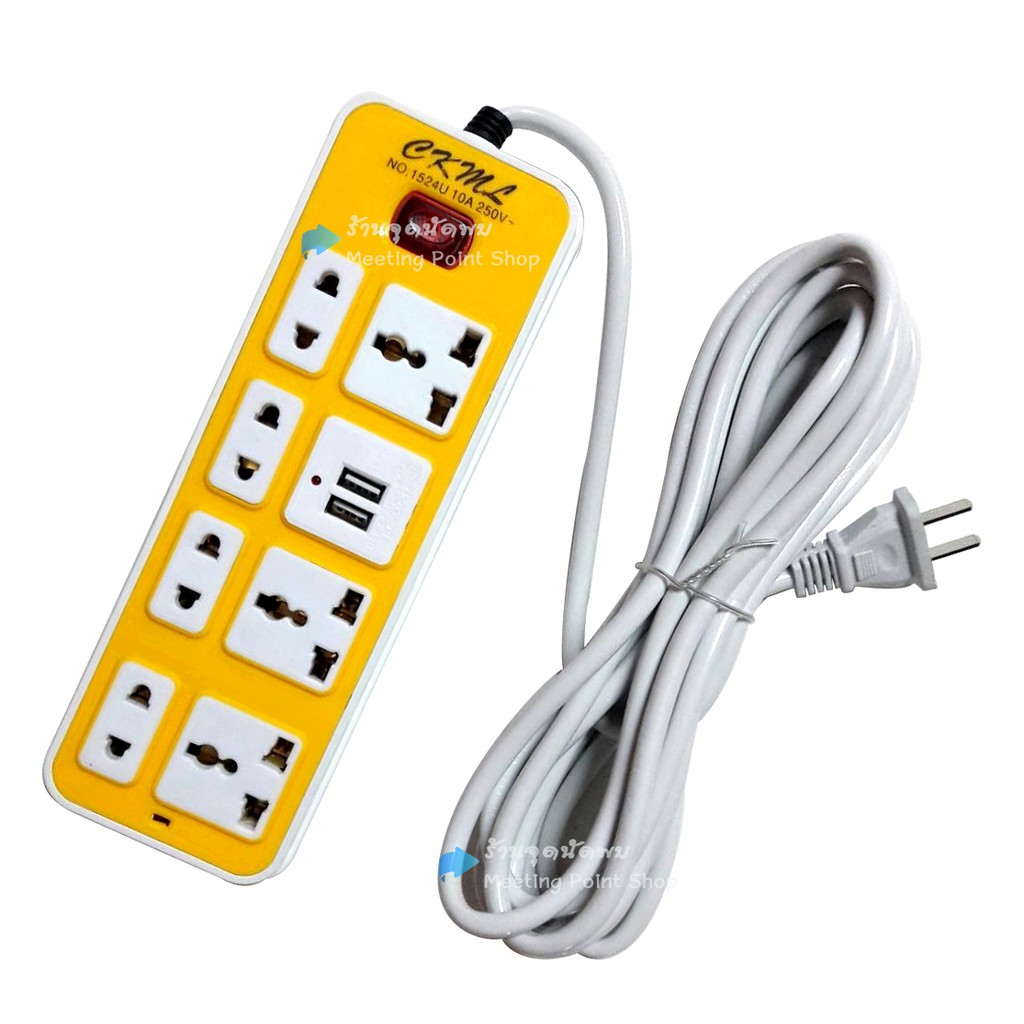Three_eye_plug: (33, 79, 594, 898)
